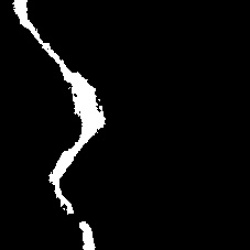crack: (14, 1, 108, 247)
